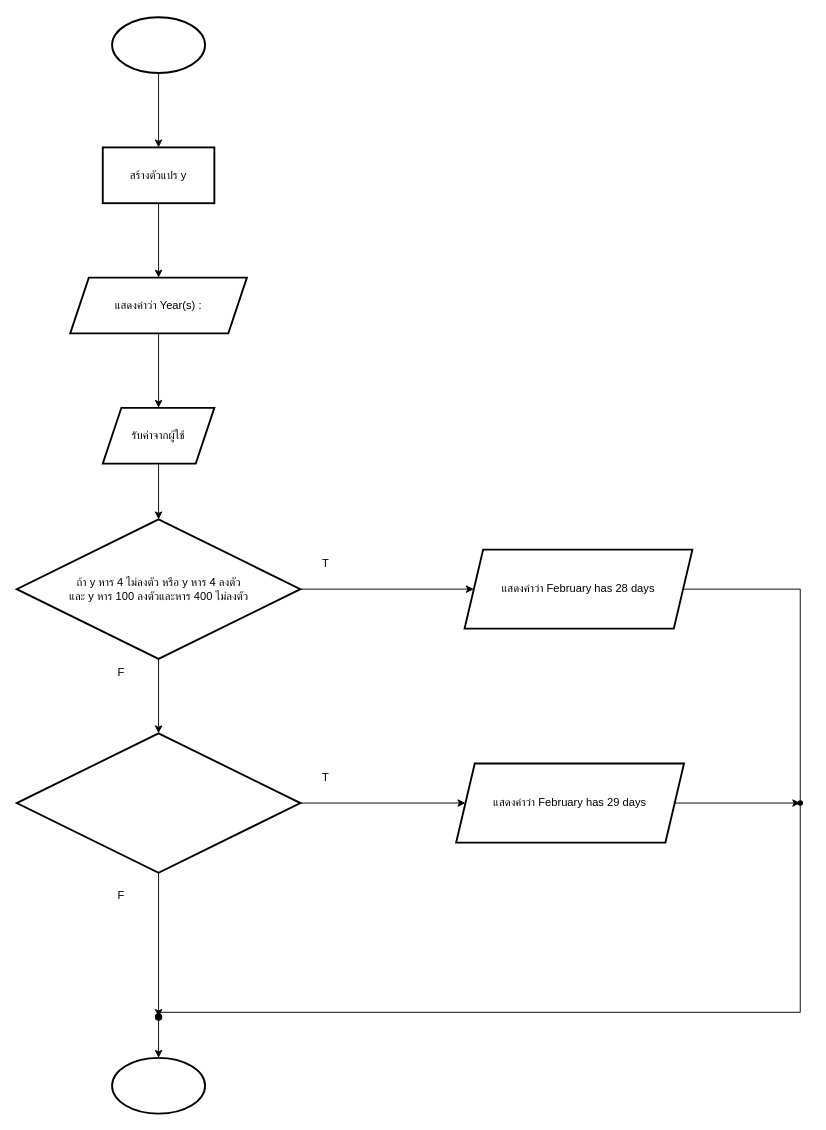
Image size: 826x1130. Some labels were removed from this diagram. The shapes that lost their labels are listed below. From the top down, each one's centre as x and y in pixels, then its label:
At point 158,44: "start".
At point 158,802: "ถ้า y หาร 4 ลงตัว หรือ y หาร 100 ไม่ลงตัว และหาร 400 ลงตัว".
At point 158,1085: "end".
